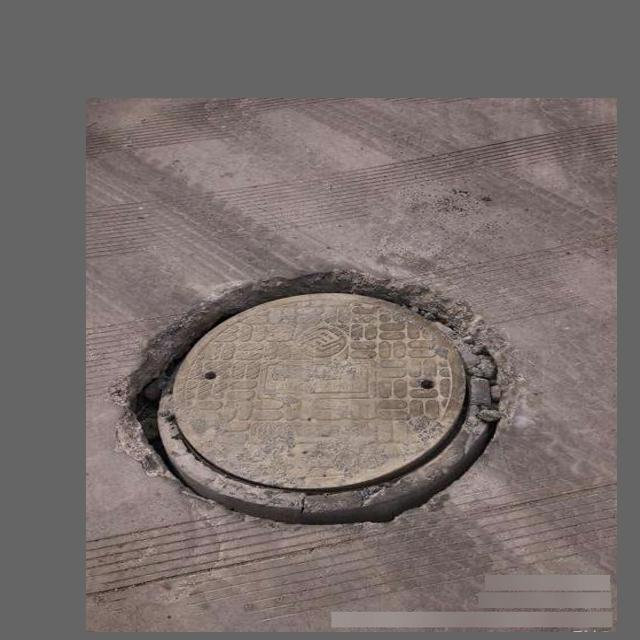circle: (131, 272, 511, 530)
